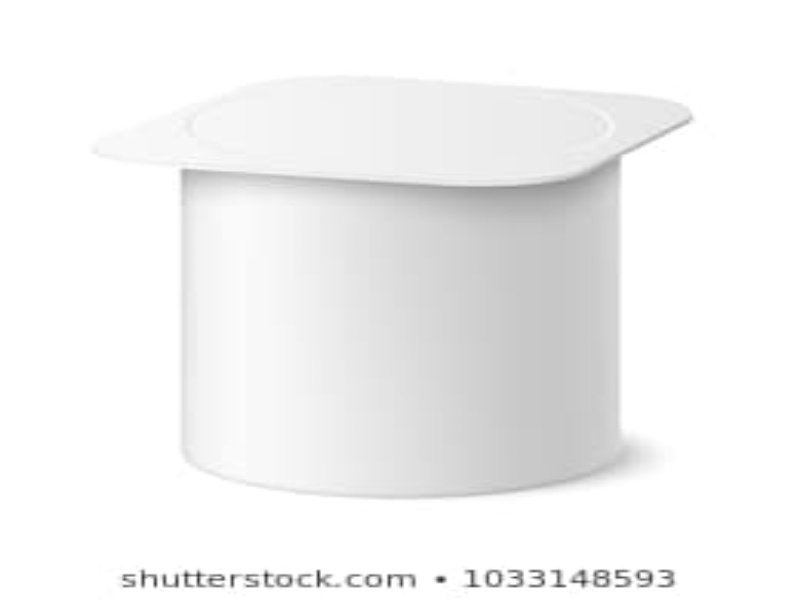yogurt-cup: (77, 66, 699, 497)
